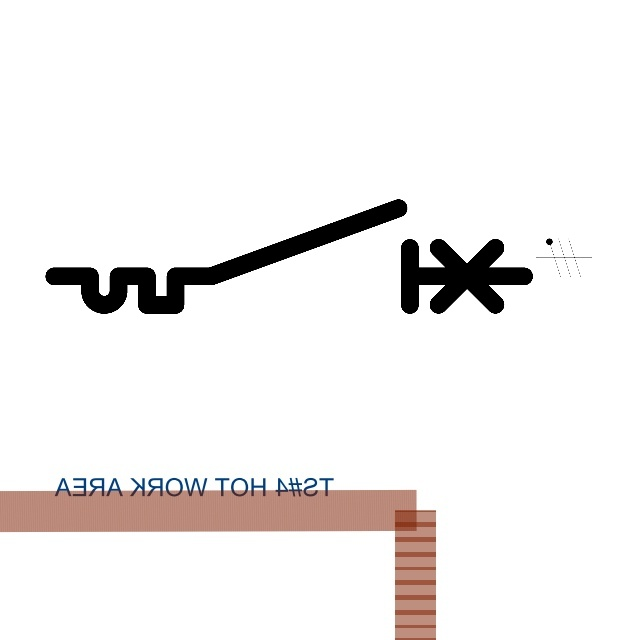interruptor_termomagnetico: (42, 196, 535, 317)
